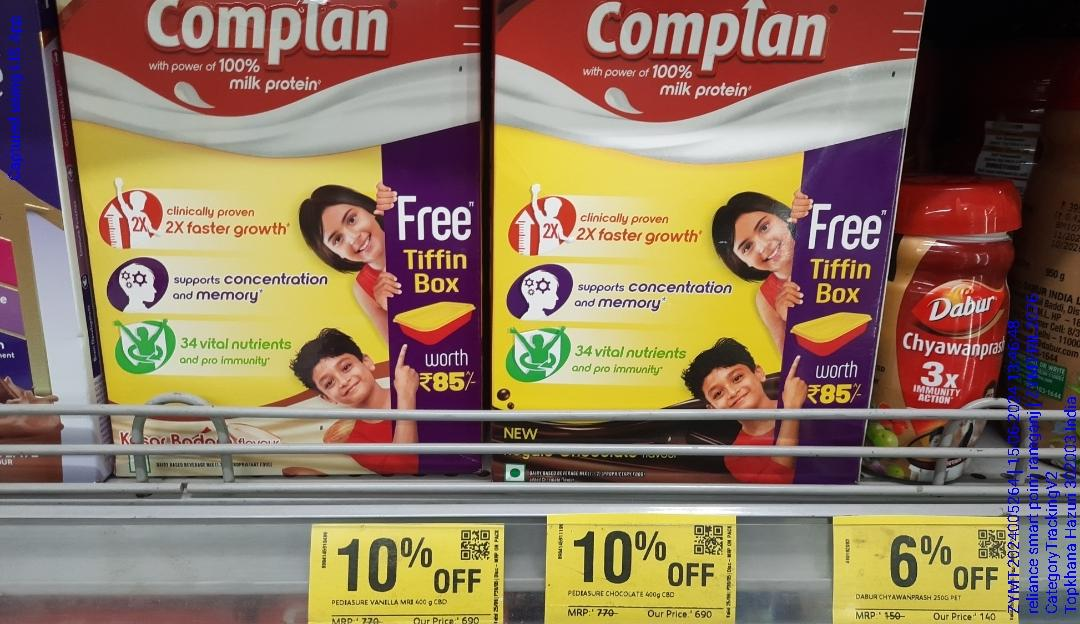COMPLAN_KESAR_BADAM_500_GMS_PACK: (73, 3, 487, 485), (500, 0, 885, 483)
